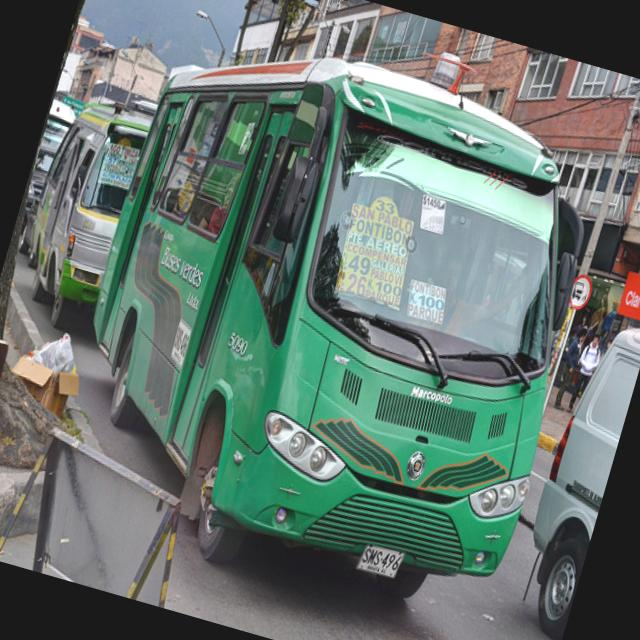Vehicle: (34, 4, 631, 640), (498, 303, 640, 640), (504, 309, 640, 635), (3, 80, 157, 335), (19, 141, 58, 225)
